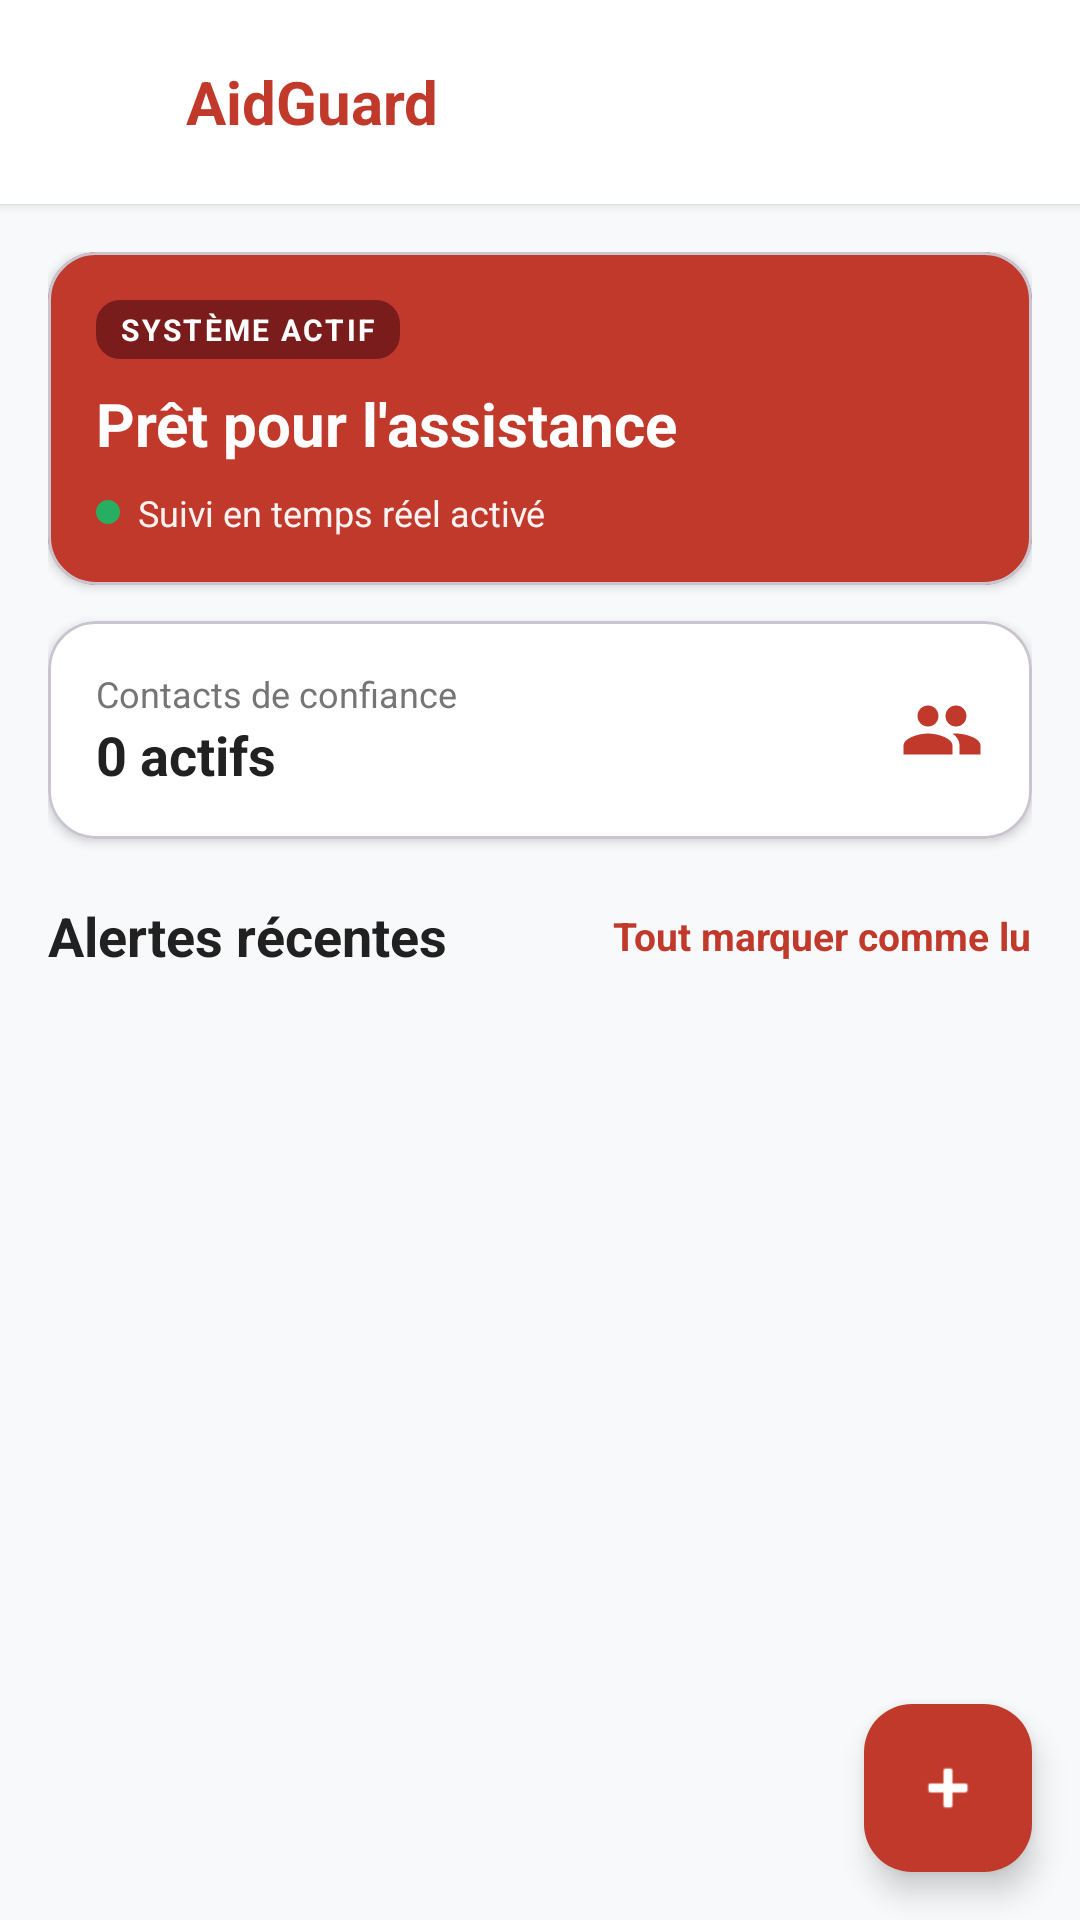

Point at icon controls on the screen. Image size 1080*1920, points as point (x, y).
Nouvelle Alerte: point (948, 1788)
people: point (942, 730)
